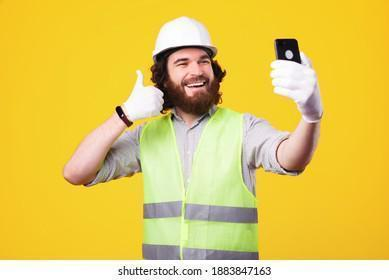helmet: (152, 16, 219, 60)
